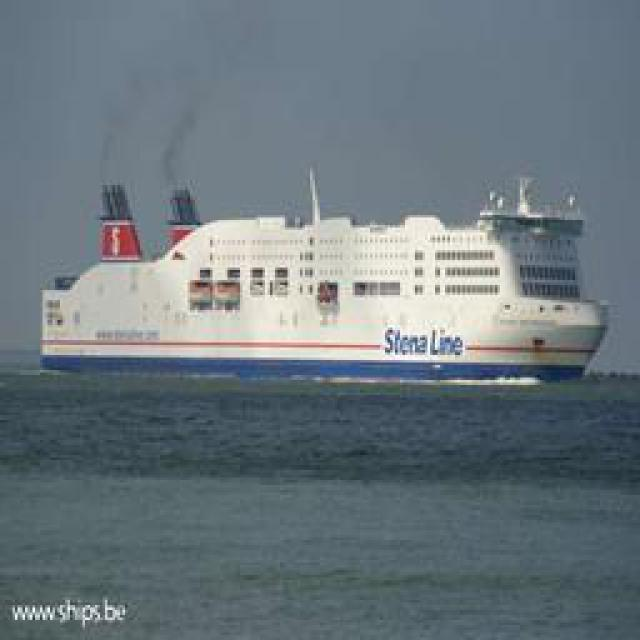Ship: (37, 173, 597, 378)
